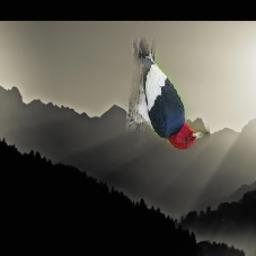Woodpecker: (126, 38, 210, 151)
